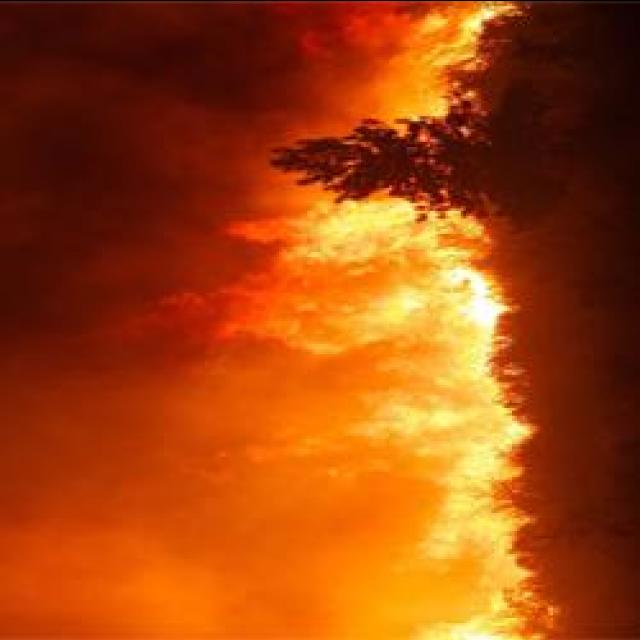fire: (238, 215, 496, 345), (380, 336, 500, 476), (413, 468, 515, 558), (406, 609, 496, 640)
smoke: (3, 1, 215, 236), (0, 516, 271, 640), (29, 206, 216, 377), (158, 370, 352, 531)
